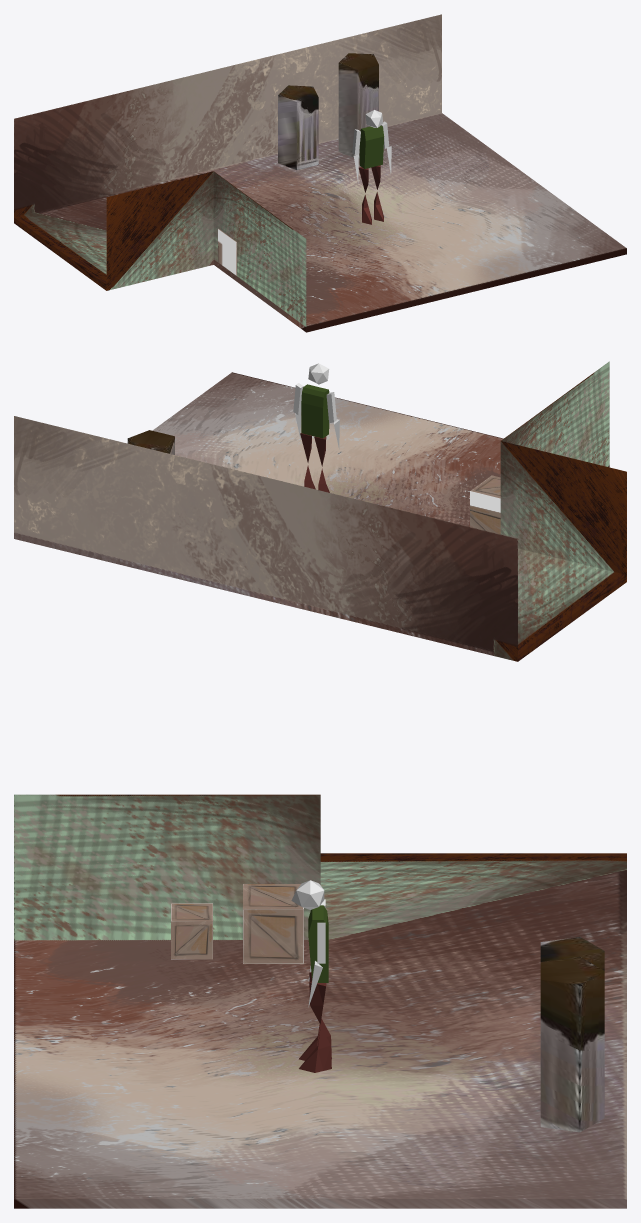
Rendered from conceptrender.glb.
The picture shows the model from 3 angles, top to bottom: view 1: azimuth 30°, elevation 25°; view 2: azimuth 150°, elevation 25°; view 3: azimuth 270°, elevation 25°; orthographic projection. The views are drawn at different scales.
Visible parts, largest first — view 1: Cube, Cylinder, Cylinder.001, Cube.003, Cube.002; view 2: Cube, Cube.002, Cube.003, Cylinder.001; view 3: Cube, Cylinder.001, Cube.002, Cube.001, Cylinder, Cube.003, Cone.003, Icosphere.
Boxes of the visible parts, x1,y1,x2,y2 form: Cube: (14,14,626,332); Cylinder: (278,85,318,170); Cylinder.001: (338,53,378,158); Cube.003: (359,125,384,168); Cube.002: (218,228,236,275); Cube: (14,361,626,661); Cube.002: (470,475,500,534); Cube.003: (301,384,329,438); Cylinder.001: (127,430,174,454); Cube: (14,794,626,1208); Cylinder.001: (540,956,604,1132); Cube.002: (243,884,303,963); Cube.001: (171,903,212,959); Cylinder: (540,936,604,970); Cube.003: (308,905,328,982); Cone.003: (299,1027,331,1072); Icosphere: (291,880,324,909).
Size of the model in its own units: 17.78 by 4.72 by 13.32.
Materials: 5 (3 with a texture image).
